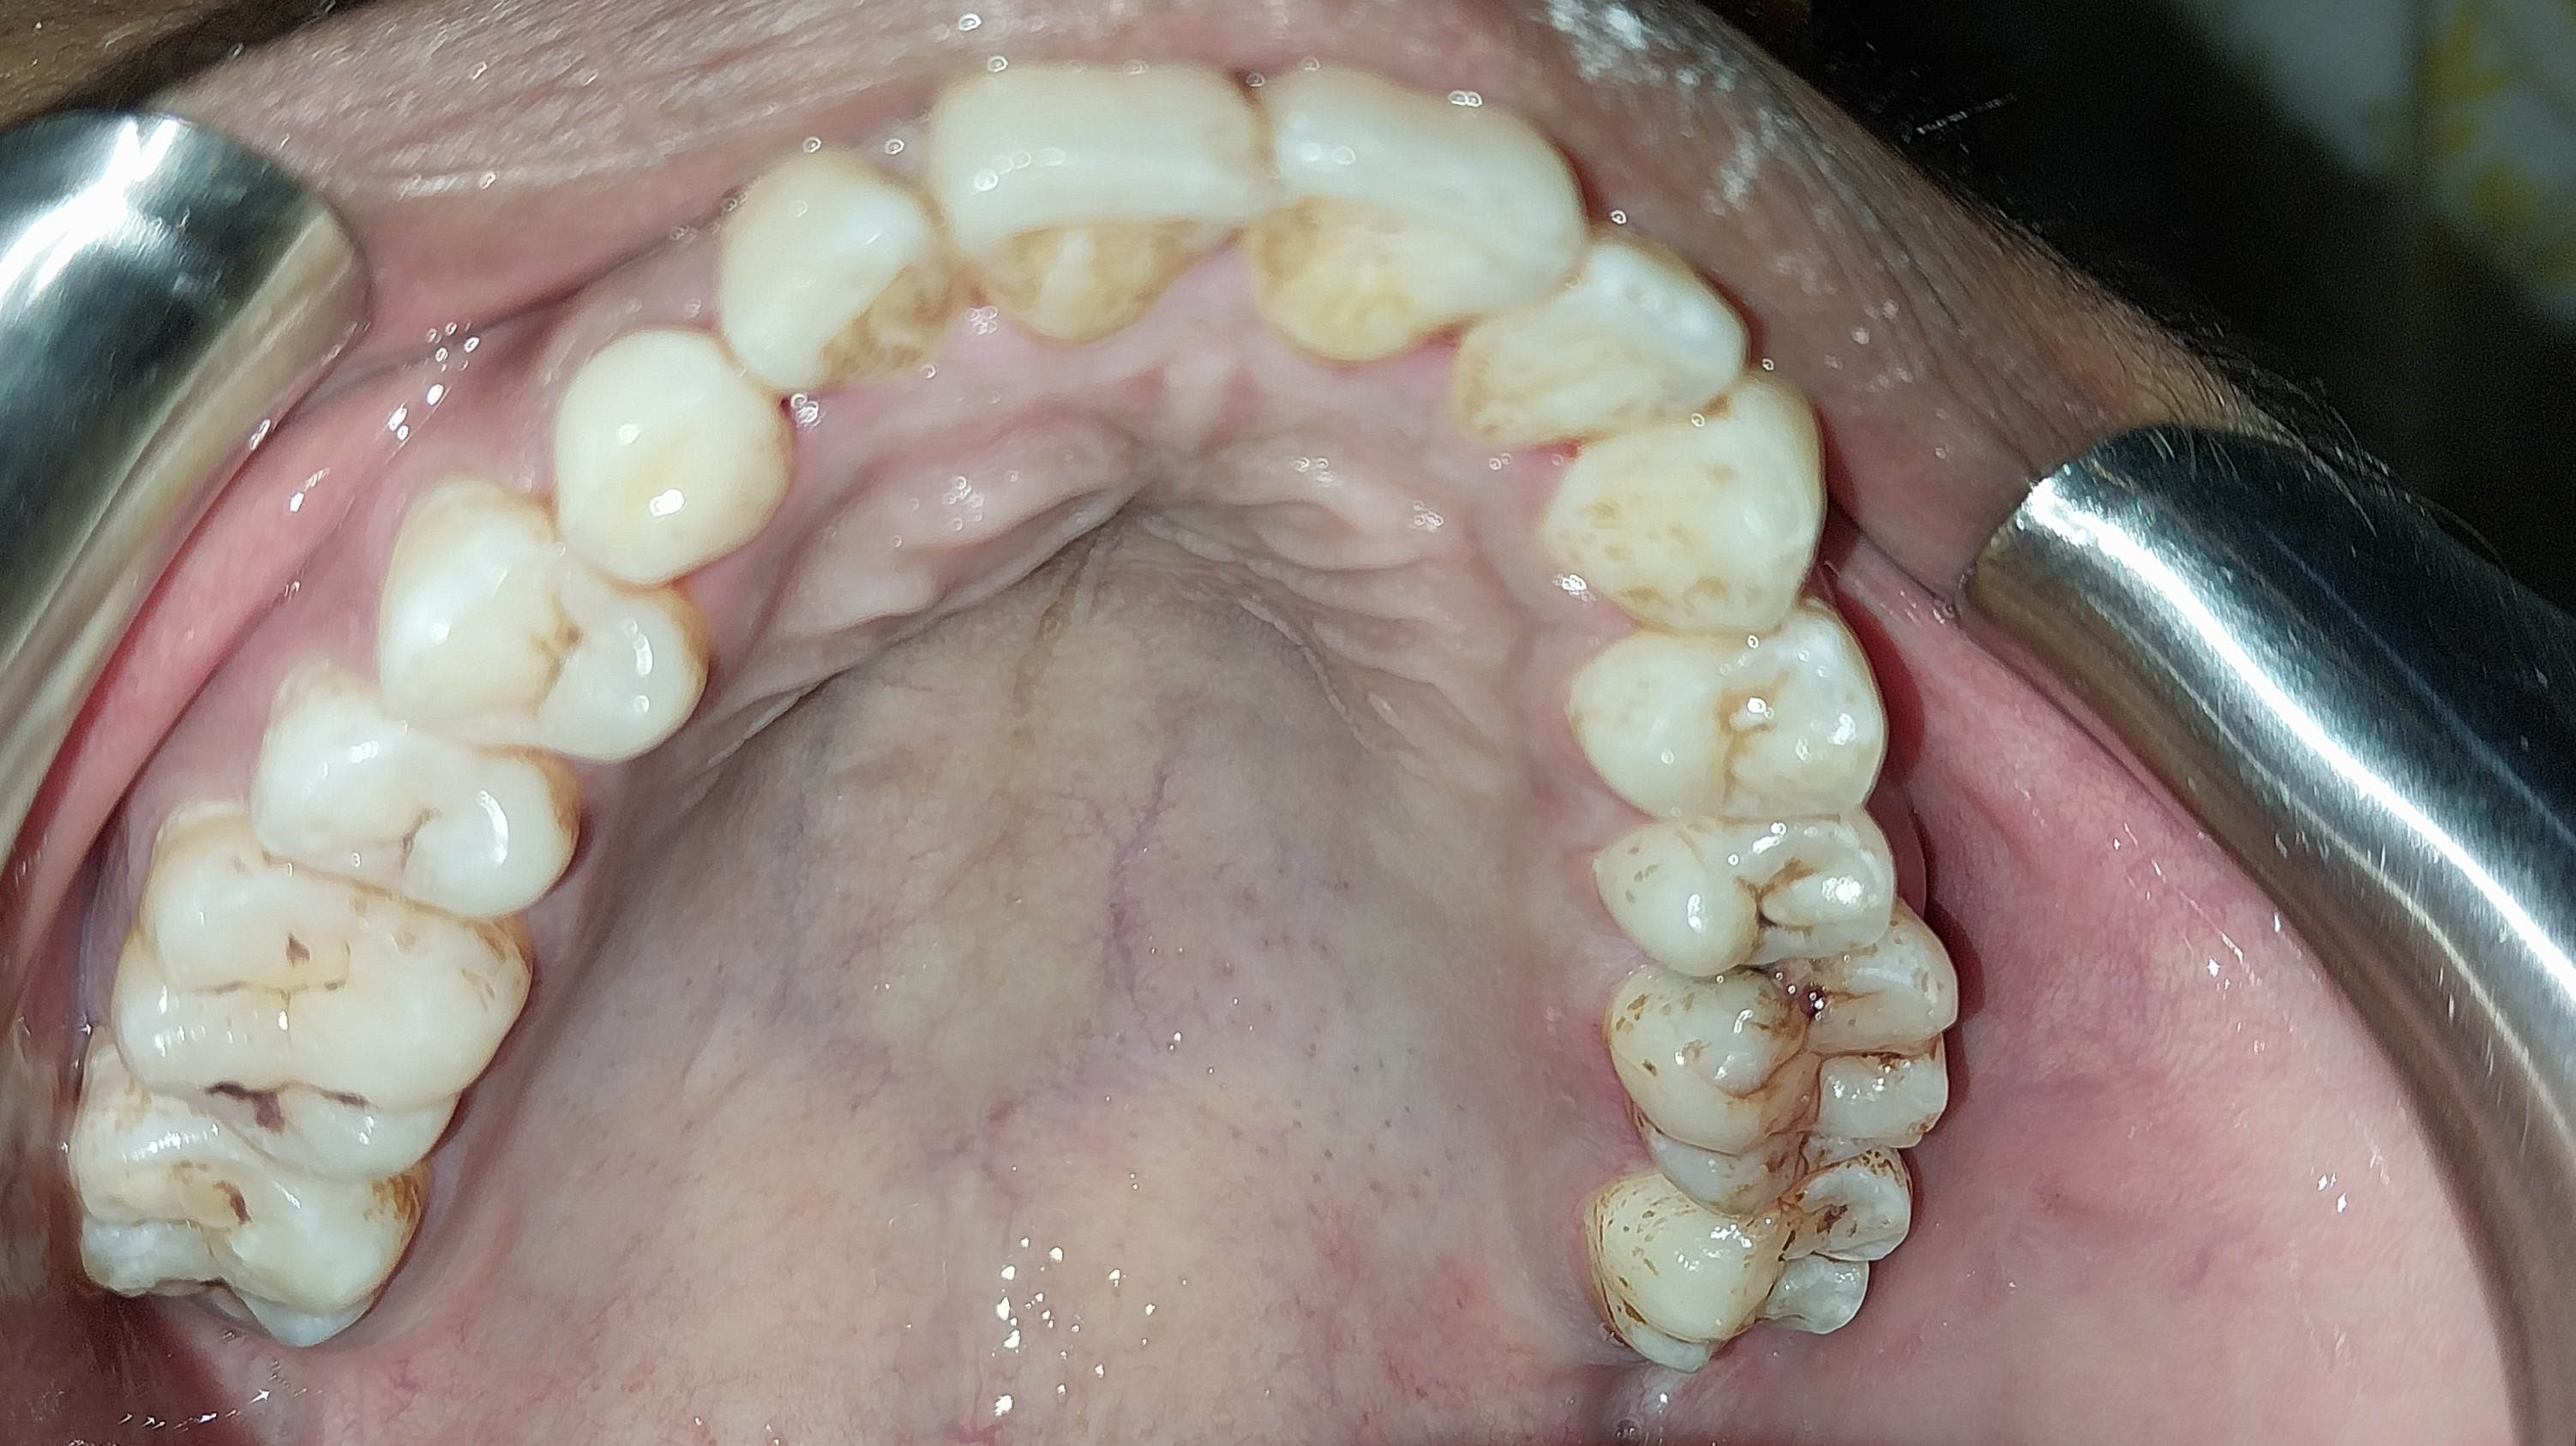D: (1606, 906, 1961, 1221), (1600, 800, 1900, 981)
